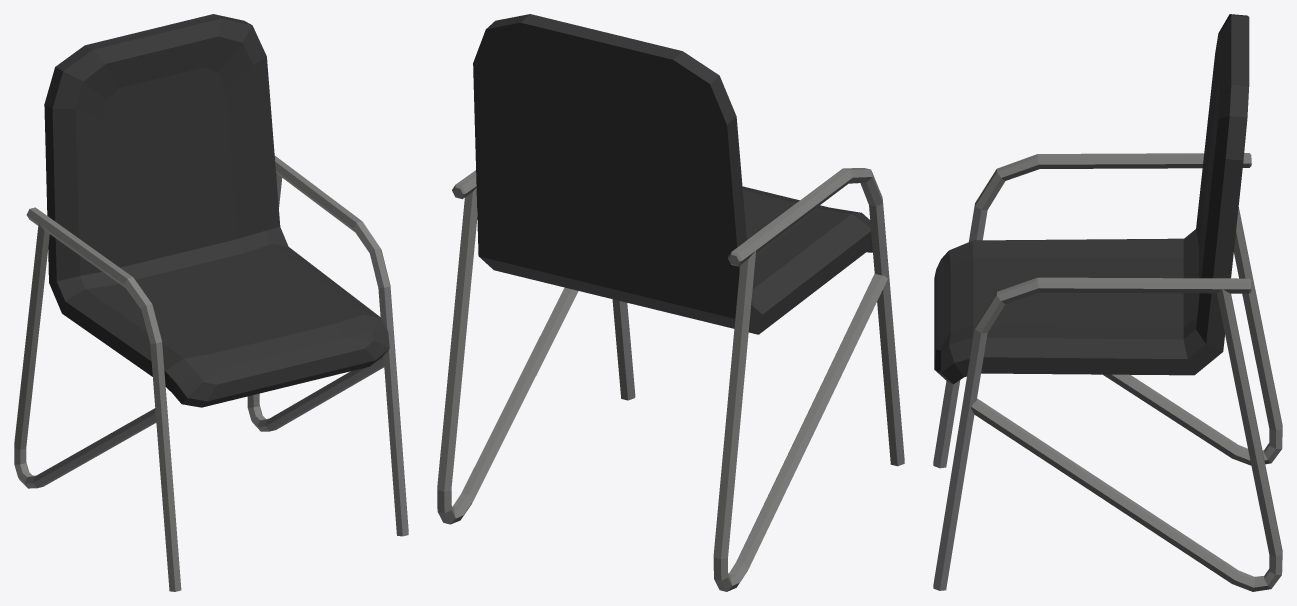
Rendered from SM_Props_Interior_Generic_Office_Chair_07.fbx.
The picture shows the model from 3 angles, left to right: view 1: azimuth 30°, elevation 25°; view 2: azimuth 150°, elevation 25°; view 3: azimuth 270°, elevation 25°; orthographic projection. The views are drawn at different scales.
Parts seen in each view (by area): view 1: SM_Props_Interior_Generic_Office_Chair_07; view 2: SM_Props_Interior_Generic_Office_Chair_07; view 3: SM_Props_Interior_Generic_Office_Chair_07.
Part boxes in pixels (x1,y1,x2,y2): SM_Props_Interior_Generic_Office_Chair_07: (14, 14, 408, 591); SM_Props_Interior_Generic_Office_Chair_07: (437, 14, 904, 591); SM_Props_Interior_Generic_Office_Chair_07: (933, 14, 1282, 591).
Bounding box in the file's own units: 54.89 × 92.41 × 61.29.
